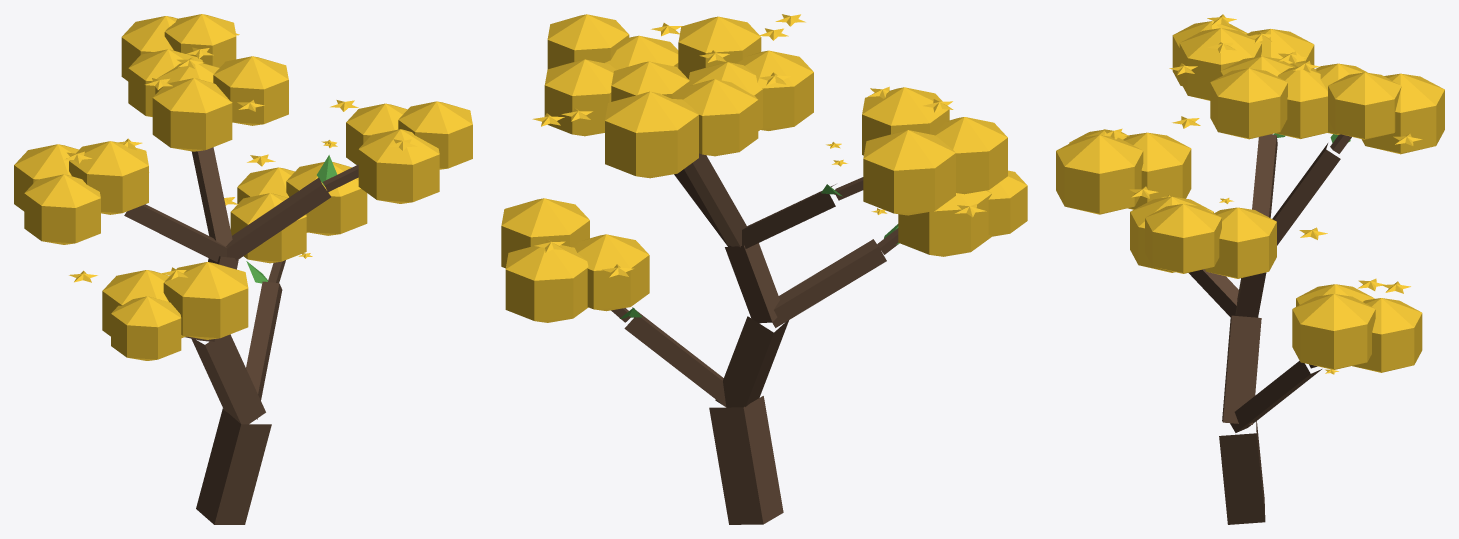
File: viet_tree_mai.glb
3 views of the same model, side by side, from view 1: azimuth 30°, elevation 25°; view 2: azimuth 150°, elevation 25°; view 3: azimuth 270°, elevation 25° (orthographic). The views are drawn at different scales.
Visible parts, largest first — view 1: viet_tree_mai; view 2: viet_tree_mai; view 3: viet_tree_mai.
Part boxes in pixels (bbox=[...]): viet_tree_mai: bbox=[14, 14, 472, 524]; viet_tree_mai: bbox=[501, 14, 1027, 524]; viet_tree_mai: bbox=[1056, 14, 1444, 524].
Size of the model in its own units: 0.9577 by 1 by 0.7476.
